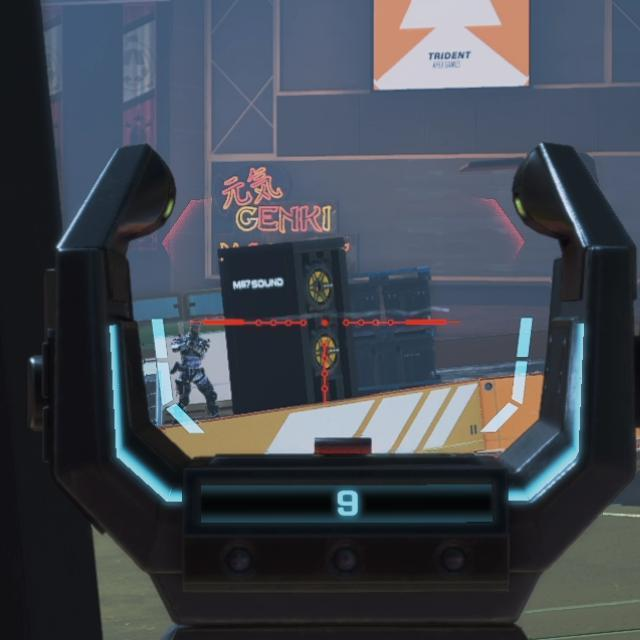avatar: (168, 320, 219, 420)
